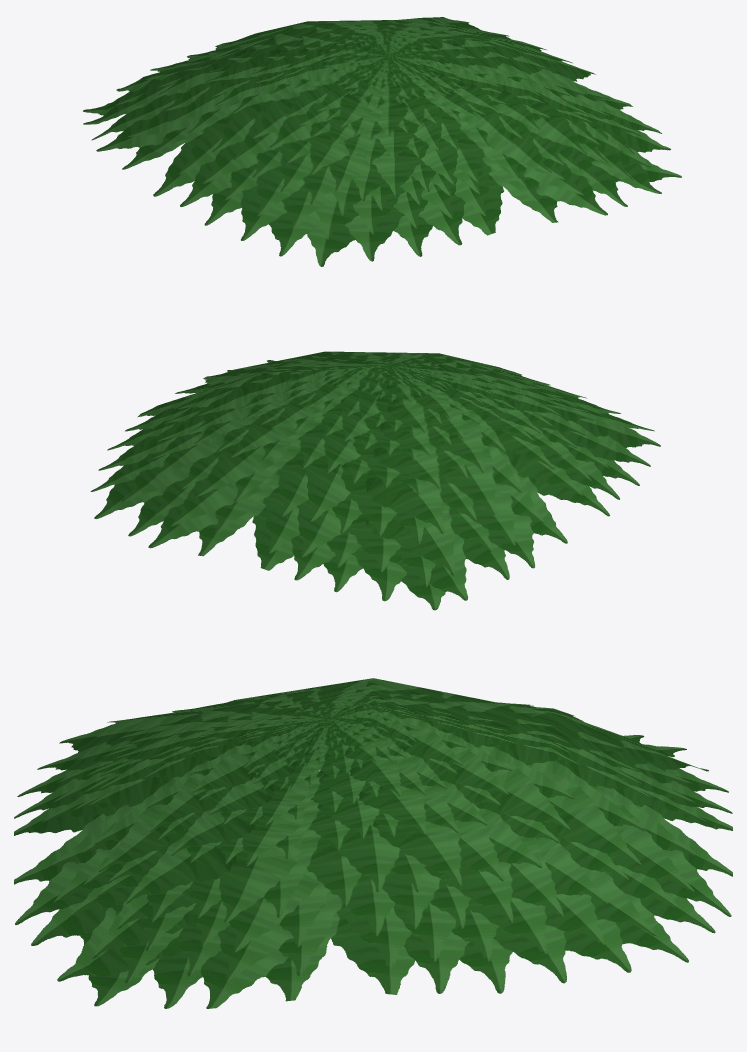
Rendered from treeFoliage.FBX.
The picture shows the model from 3 angles, top to bottom: view 1: azimuth 30°, elevation 25°; view 2: azimuth 150°, elevation 25°; view 3: azimuth 270°, elevation 25°; orthographic projection. The views are drawn at different scales.
Visible parts, largest first — view 1: Plane001; view 2: Plane001; view 3: Plane001.
Part boxes in pixels (box(x1,y1,x2,y2)): Plane001: box(83, 17, 681, 266); Plane001: box(90, 351, 660, 610); Plane001: box(14, 678, 732, 1008).
Size of the model in its own units: 39.37 by 10.73 by 39.37.
